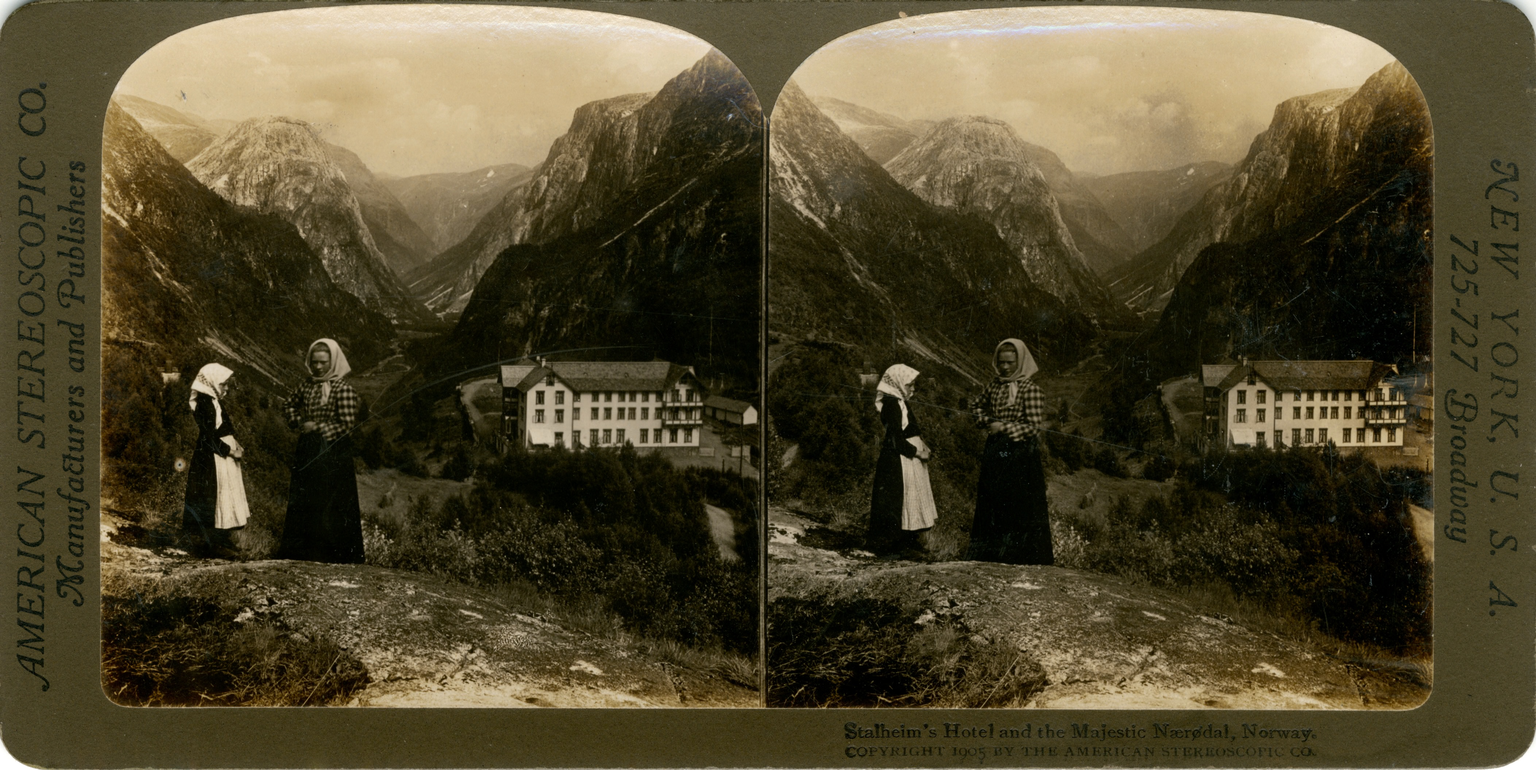half_image: (769, 6, 1434, 711), (102, 4, 761, 708)
